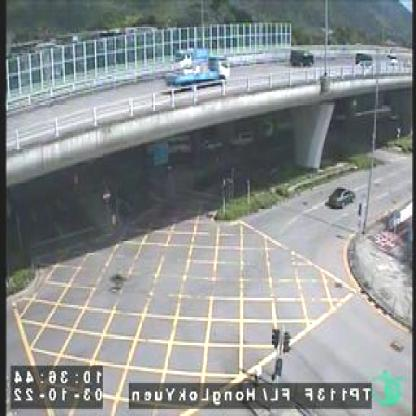Car: (328, 187, 354, 208)
